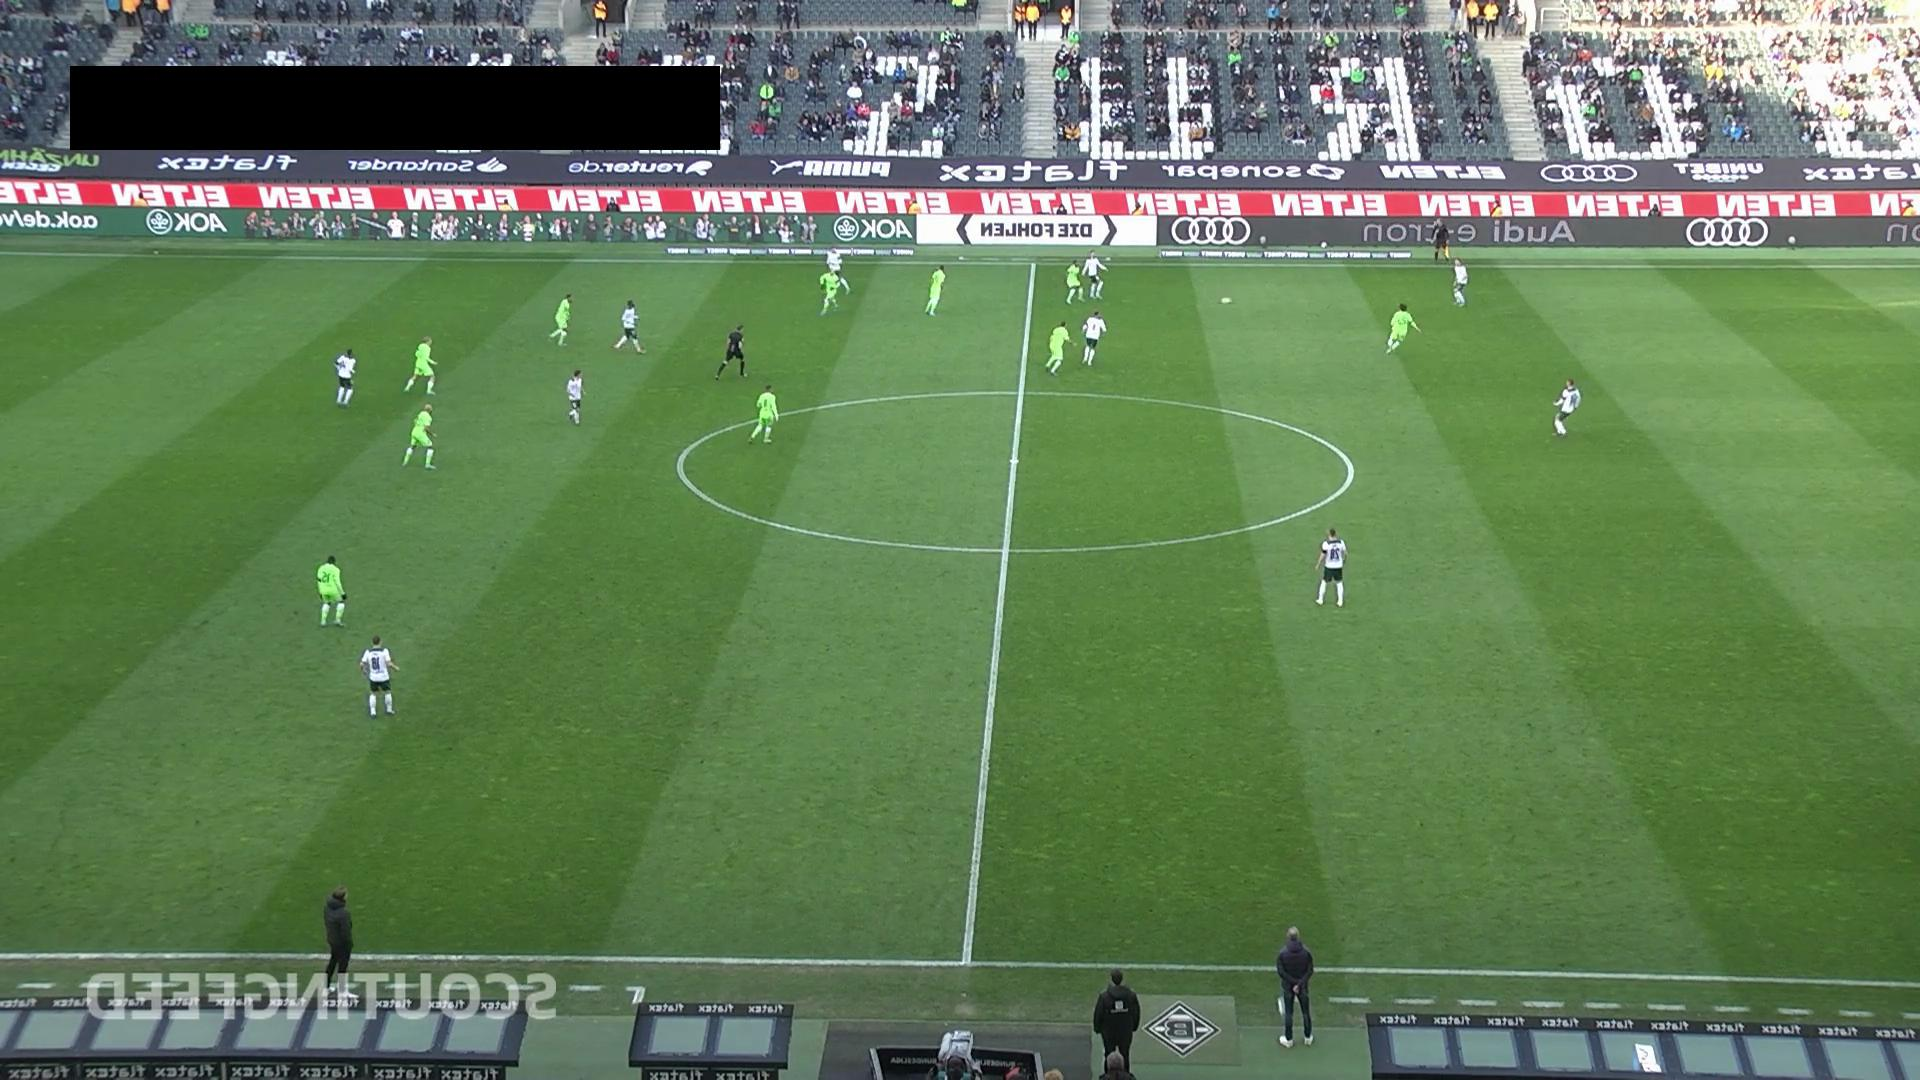ball: (1220, 296, 1233, 305)
player: (359, 634, 400, 718), (1314, 527, 1348, 607), (401, 403, 437, 469), (316, 554, 347, 626), (403, 335, 438, 395), (747, 382, 779, 444), (1385, 302, 1422, 355), (612, 299, 646, 354), (1552, 377, 1581, 437), (1044, 318, 1073, 375), (1081, 310, 1108, 366), (818, 269, 850, 315), (333, 348, 357, 407), (547, 292, 573, 346), (825, 246, 851, 295), (1082, 250, 1108, 299), (924, 264, 946, 316), (566, 369, 584, 425), (1451, 256, 1469, 306), (1065, 260, 1084, 305)
referee: (715, 323, 747, 379), (1432, 219, 1451, 262)
